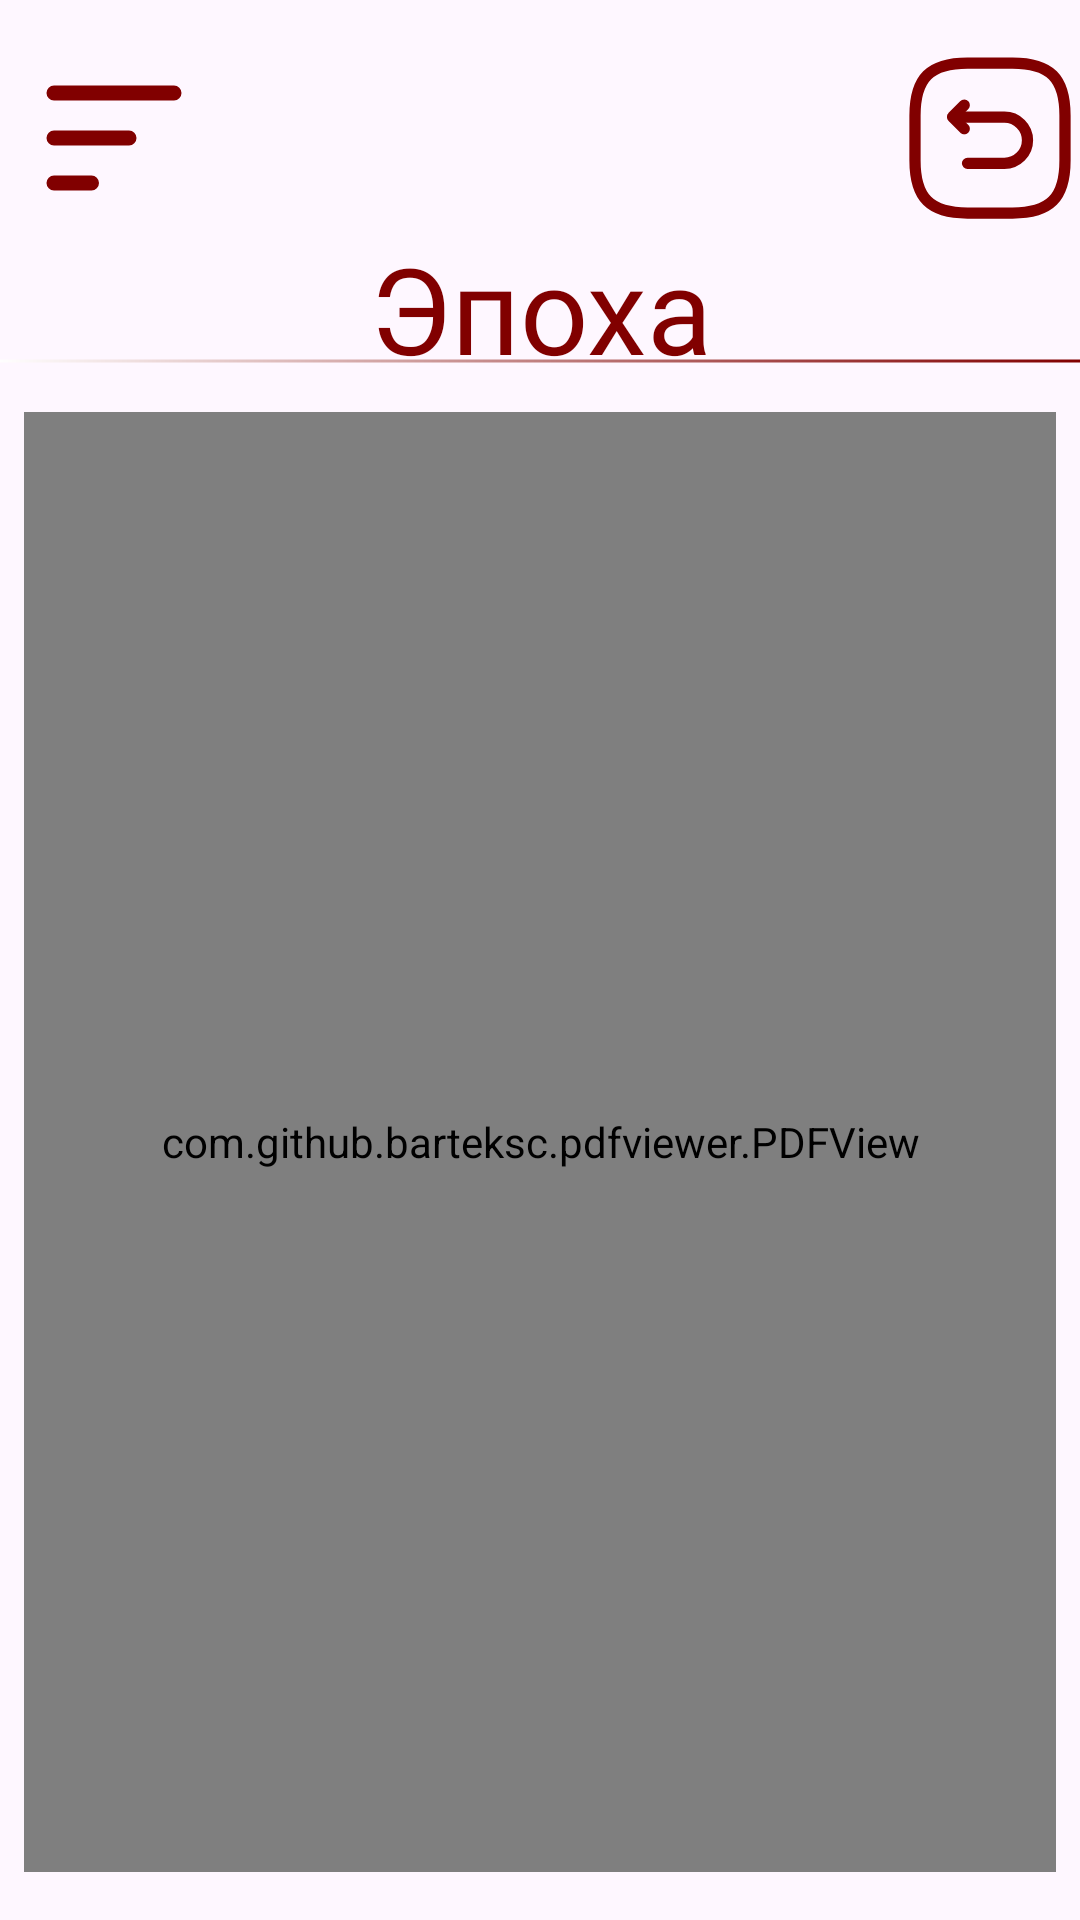

Screen size 1080 × 1920. Icon name, then its center in pixels as (x=x, y=y):
back: (x=990, y=138)
navdrawer: (x=114, y=138)
